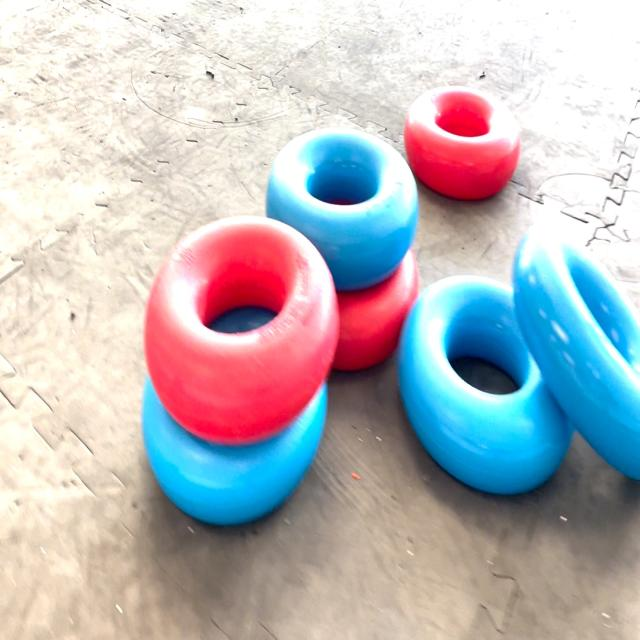Blue-Ring: (399, 276, 574, 493), (512, 224, 640, 480), (142, 376, 328, 524), (266, 129, 419, 291)
Red-Ring: (144, 216, 340, 444), (404, 87, 520, 200), (332, 249, 420, 371)
